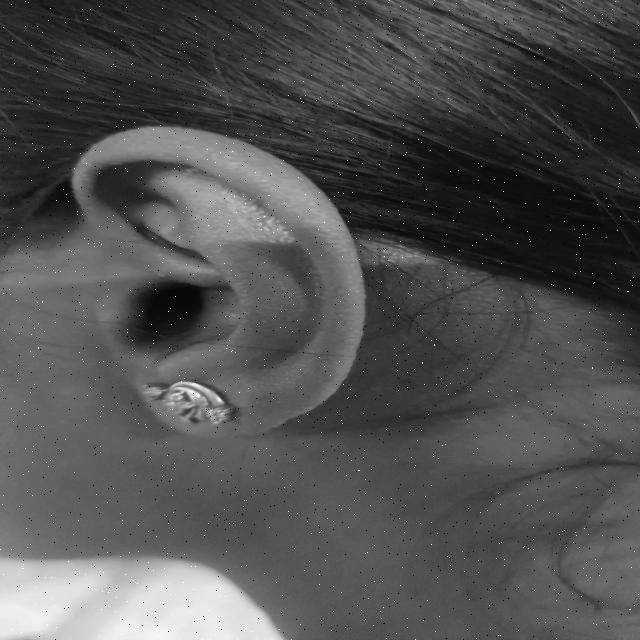ear: (72, 126, 364, 436), (149, 402, 154, 406)
